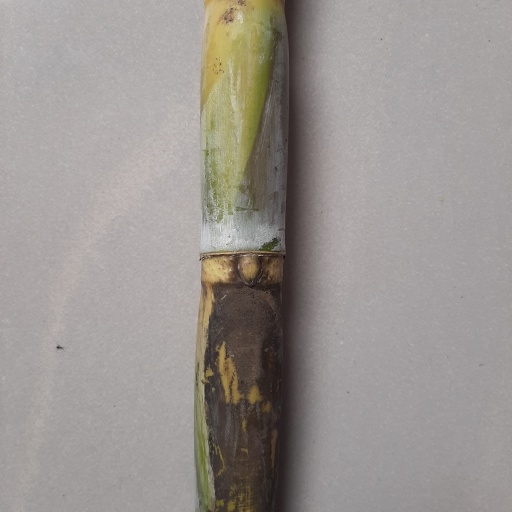Bud: (235, 254, 264, 286)
